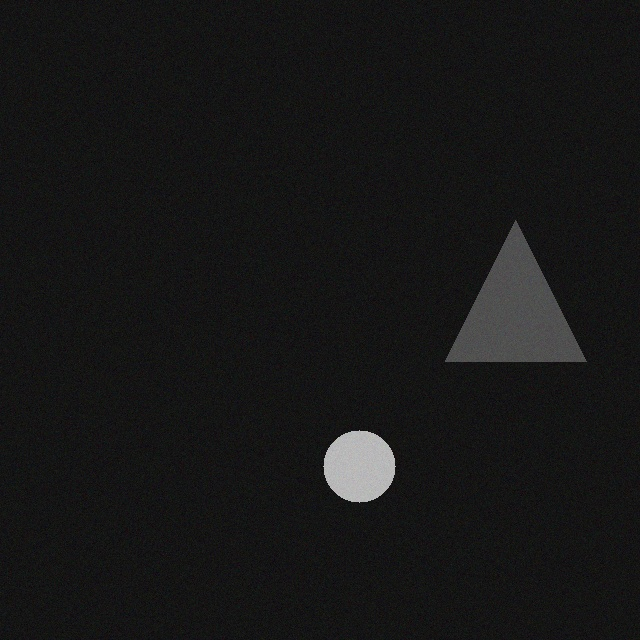circle: (330, 442, 402, 514)
triangle: (452, 232, 593, 373)
